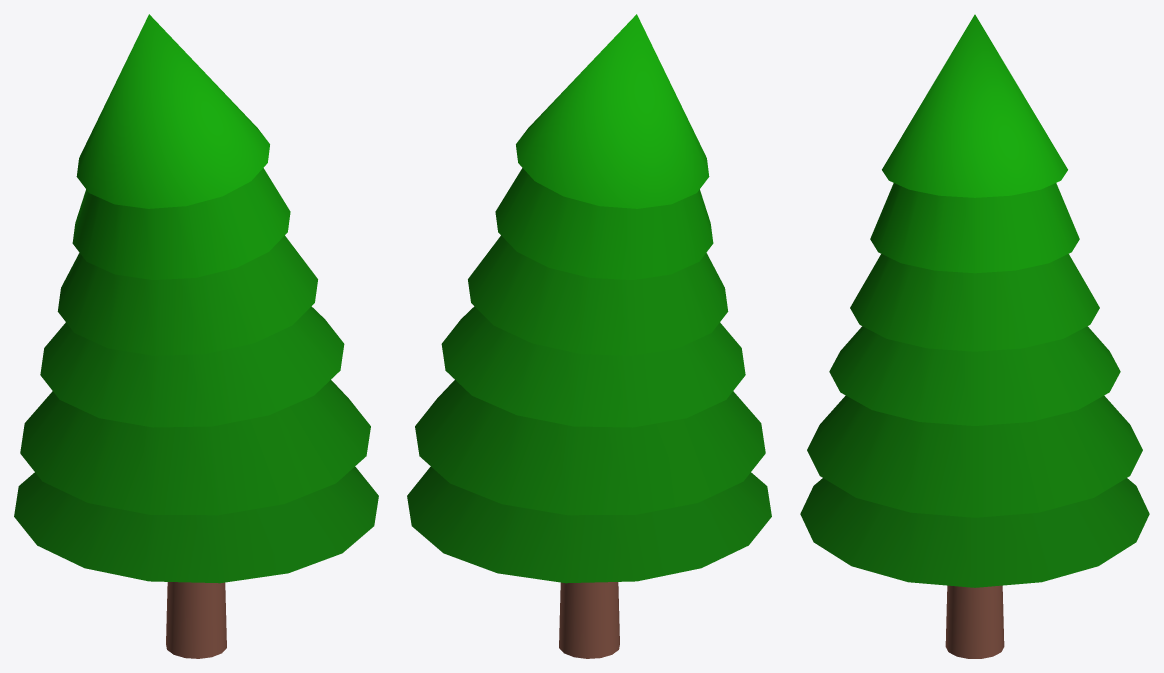
Rendered from Spruce_Cold_Green_3.fbx.
3 renders of one model, left to right at view 1: azimuth 30°, elevation 25°; view 2: azimuth 150°, elevation 25°; view 3: azimuth 270°, elevation 25°, orthographic. The views are drawn at different scales.
Parts seen in each view (by area): view 1: Cylinder.979, Cylinder.978, Cylinder.980, Cylinder.981, Cylinder.983, Cylinder.982, Cylinder.977; view 2: Cylinder.979, Cylinder.978, Cylinder.980, Cylinder.981, Cylinder.983, Cylinder.982, Cylinder.977; view 3: Cylinder.979, Cylinder.978, Cylinder.981, Cylinder.980, Cylinder.983, Cylinder.982, Cylinder.977.
Boxes of the visible parts, x1,y1,x2,y2 form: Cylinder.979: [20, 380, 370, 515]; Cylinder.978: [14, 466, 378, 583]; Cylinder.980: [76, 14, 269, 208]; Cylinder.981: [40, 306, 344, 427]; Cylinder.983: [57, 235, 317, 355]; Cylinder.982: [72, 168, 290, 279]; Cylinder.977: [166, 582, 226, 658]; Cylinder.979: [415, 380, 765, 515]; Cylinder.978: [407, 466, 771, 583]; Cylinder.980: [516, 14, 709, 208]; Cylinder.981: [441, 306, 745, 427]; Cylinder.983: [468, 235, 728, 355]; Cylinder.982: [495, 168, 713, 279]; Cylinder.977: [559, 582, 619, 658]; Cylinder.979: [807, 395, 1142, 517]; Cylinder.978: [800, 478, 1149, 587]; Cylinder.981: [829, 326, 1120, 425]; Cylinder.980: [882, 14, 1067, 197]; Cylinder.983: [850, 254, 1099, 351]; Cylinder.982: [870, 183, 1079, 273]; Cylinder.977: [945, 585, 1004, 658].
Size of the model in its own units: 276 by 532 by 276.
